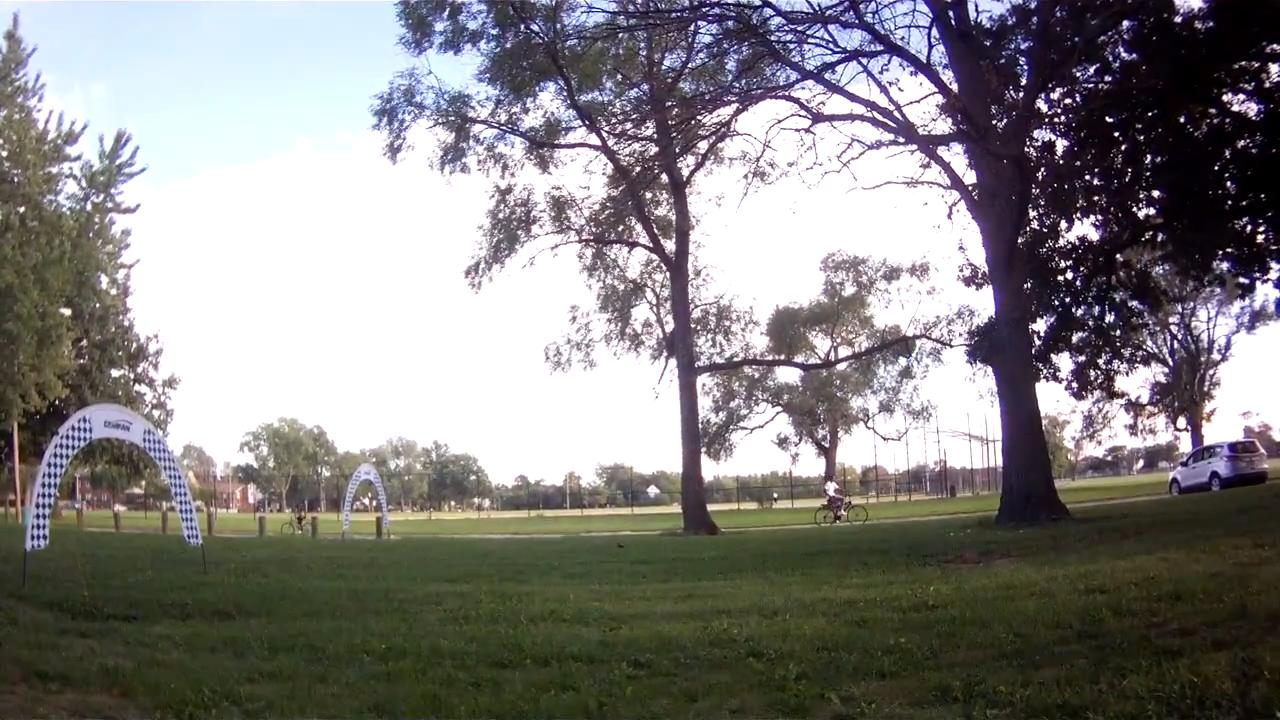gate: (22, 398, 204, 555)
